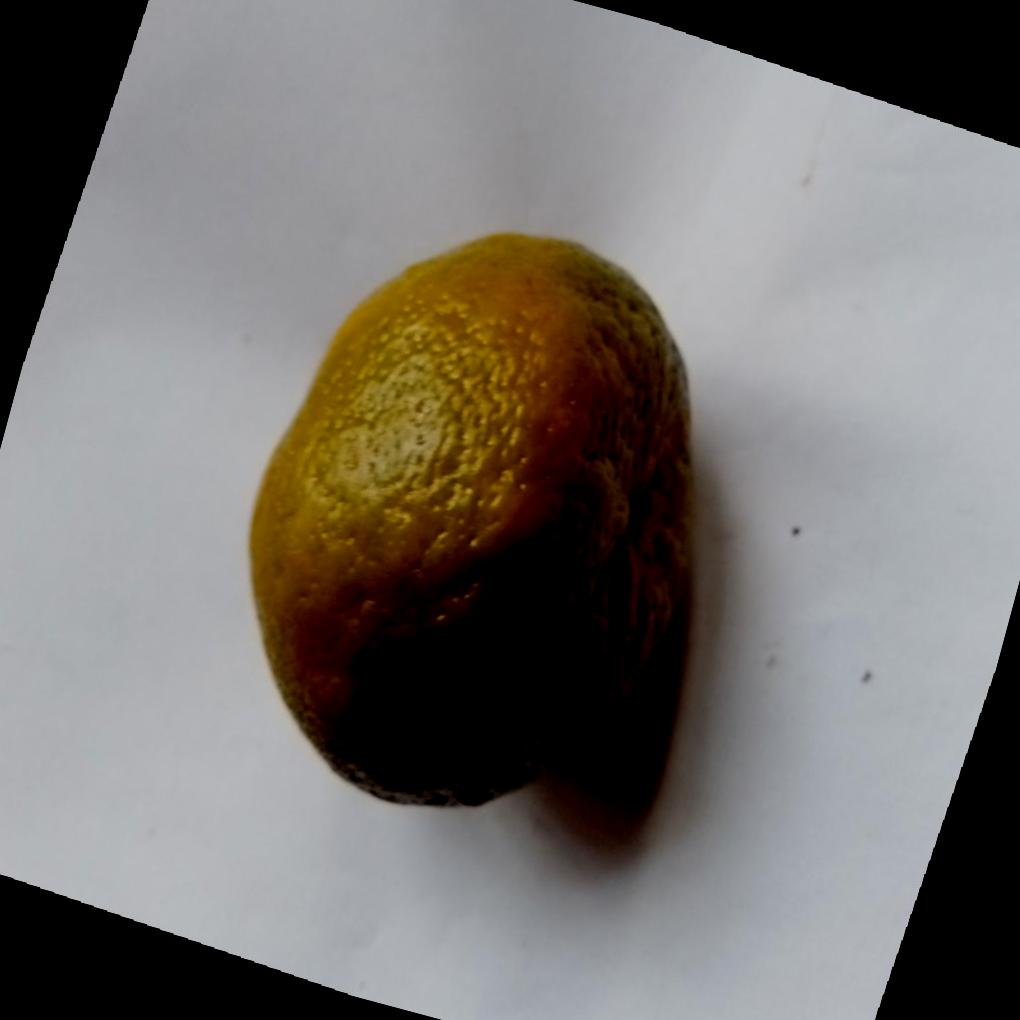FreshGuava: (246, 226, 694, 807)
